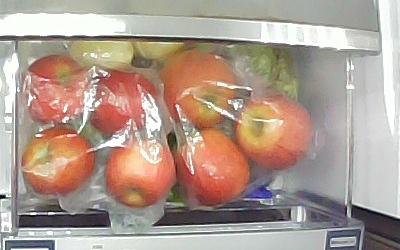apple_vinyl: (157, 51, 239, 130), (236, 94, 312, 172), (176, 127, 251, 206), (104, 137, 178, 208), (22, 129, 97, 196), (86, 70, 158, 139), (23, 55, 89, 127)
